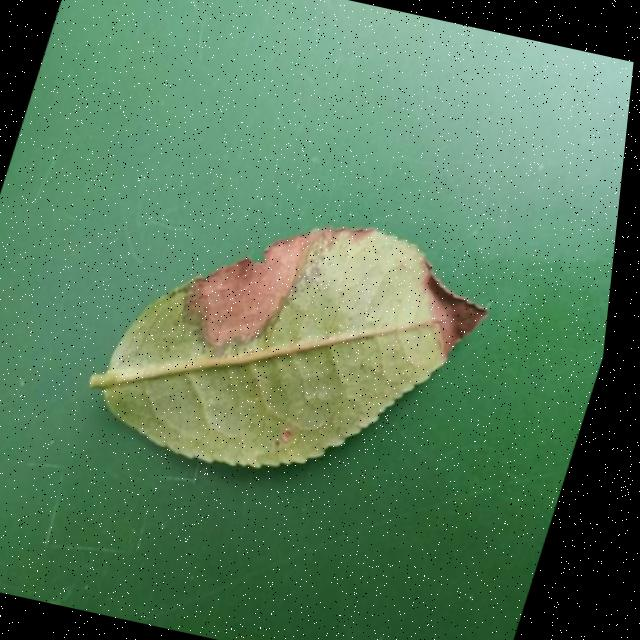Tea cloud leaf blight: (184, 205, 333, 354)
